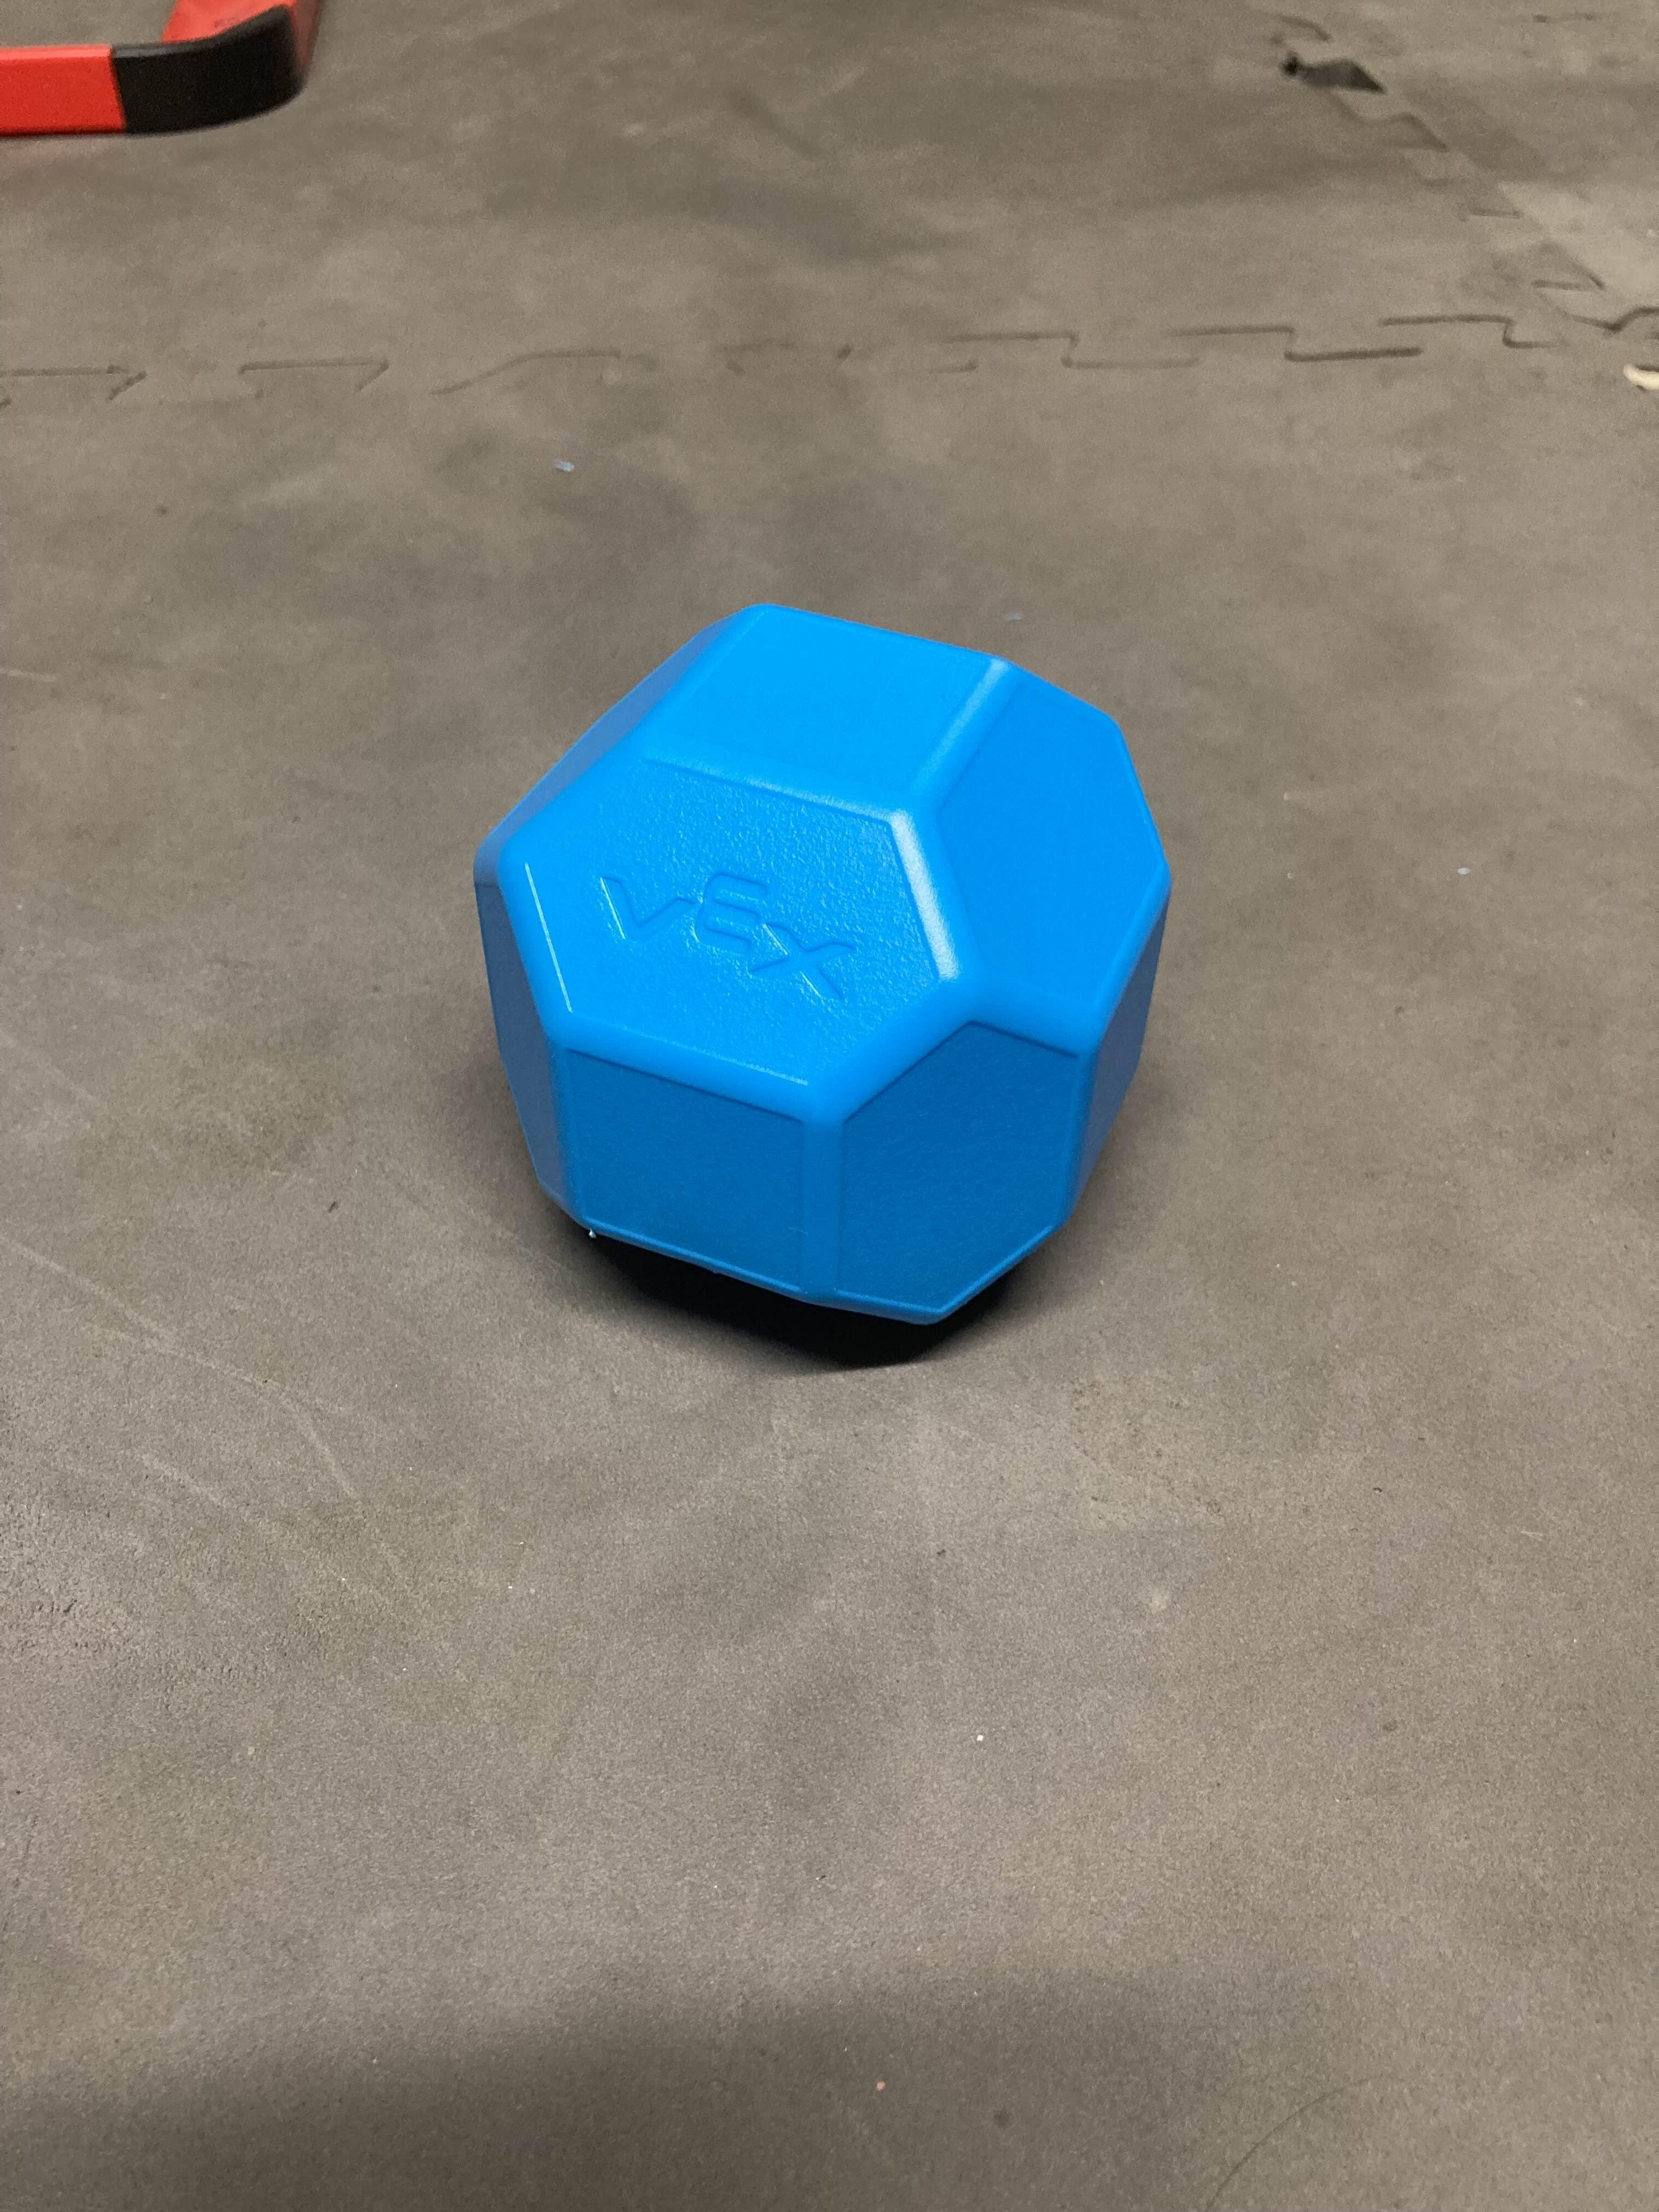Vex-Pieces-BLUE: (471, 604, 1175, 1336)
